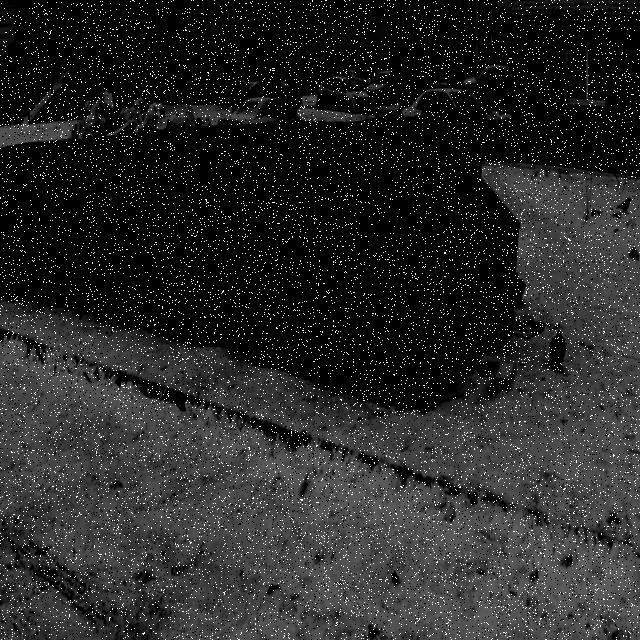Trashcan: (314, 91, 478, 408), (220, 96, 328, 391), (144, 103, 234, 359), (74, 115, 173, 344), (38, 116, 106, 334), (0, 116, 62, 321)
